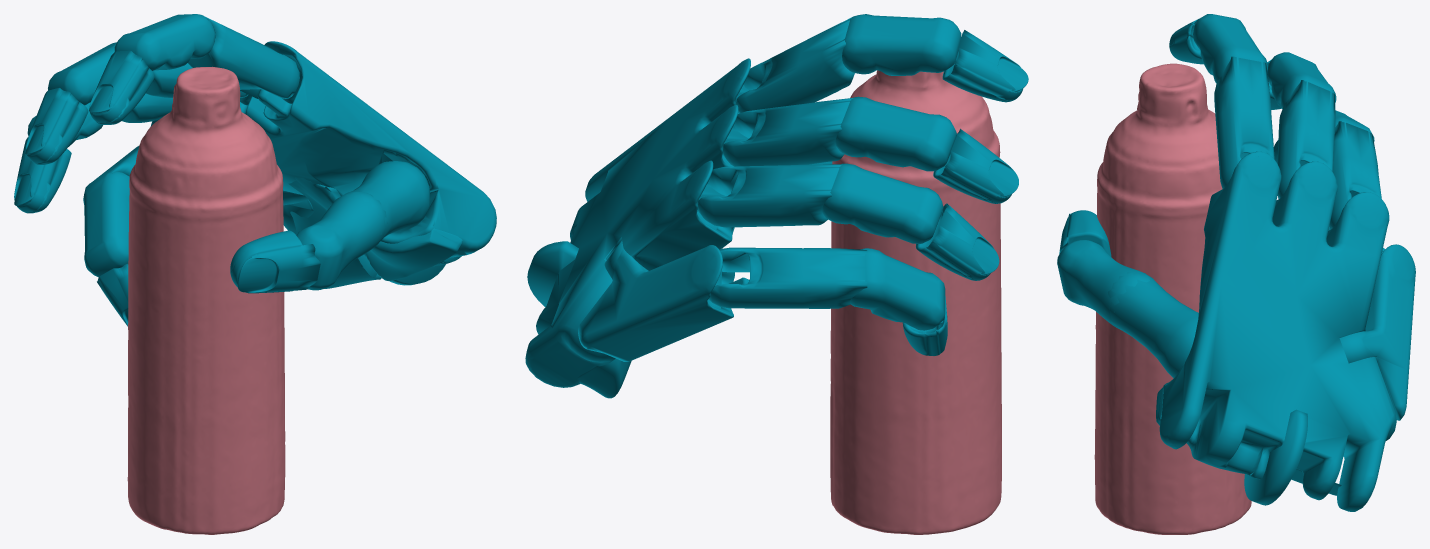
The picture shows the model from 3 angles, left to right: view 1: azimuth 30°, elevation 25°; view 2: azimuth 150°, elevation 25°; view 3: azimuth 270°, elevation 25°; orthographic projection. The views are drawn at different scales.
Visible parts, largest first — view 1: world; view 2: world; view 3: world.
Boxes of the visible parts, x1,y1,x2,y2 form: world: (14, 14, 496, 534); world: (525, 14, 1028, 534); world: (1057, 14, 1415, 534).
Bounding box in the file's own units: 0.1799 × 0.1856 × 0.1281.
